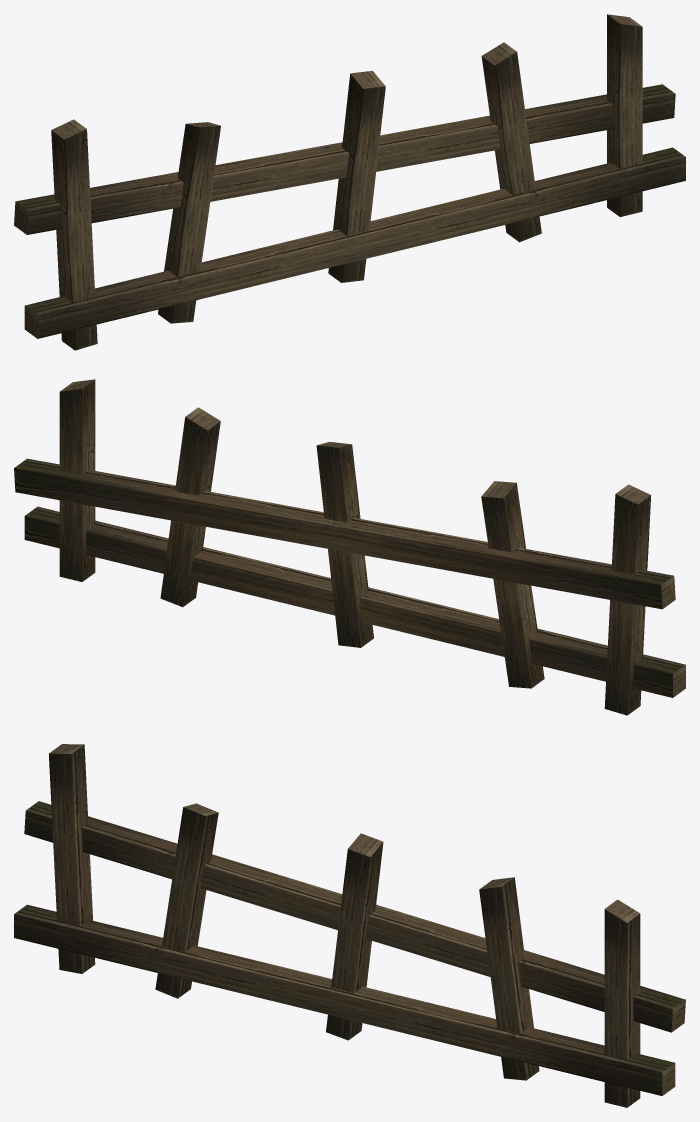
Rendered from a_wujian_muzhalan1.fbx.
3 renders of one model, top to bottom at view 1: azimuth 30°, elevation 25°; view 2: azimuth 150°, elevation 25°; view 3: azimuth 330°, elevation 25°, orthographic.
Visible parts, largest first — view 1: a_wujian_muzhalan1; view 2: a_wujian_muzhalan1; view 3: a_wujian_muzhalan1.
Part boxes in pixels (<box>): a_wujian_muzhalan1: <box>14,14,685,350</box>; a_wujian_muzhalan1: <box>14,379,685,715</box>; a_wujian_muzhalan1: <box>14,744,685,1107</box>.
Size of the model in its own units: 3.24 by 1.05 by 0.2037.
